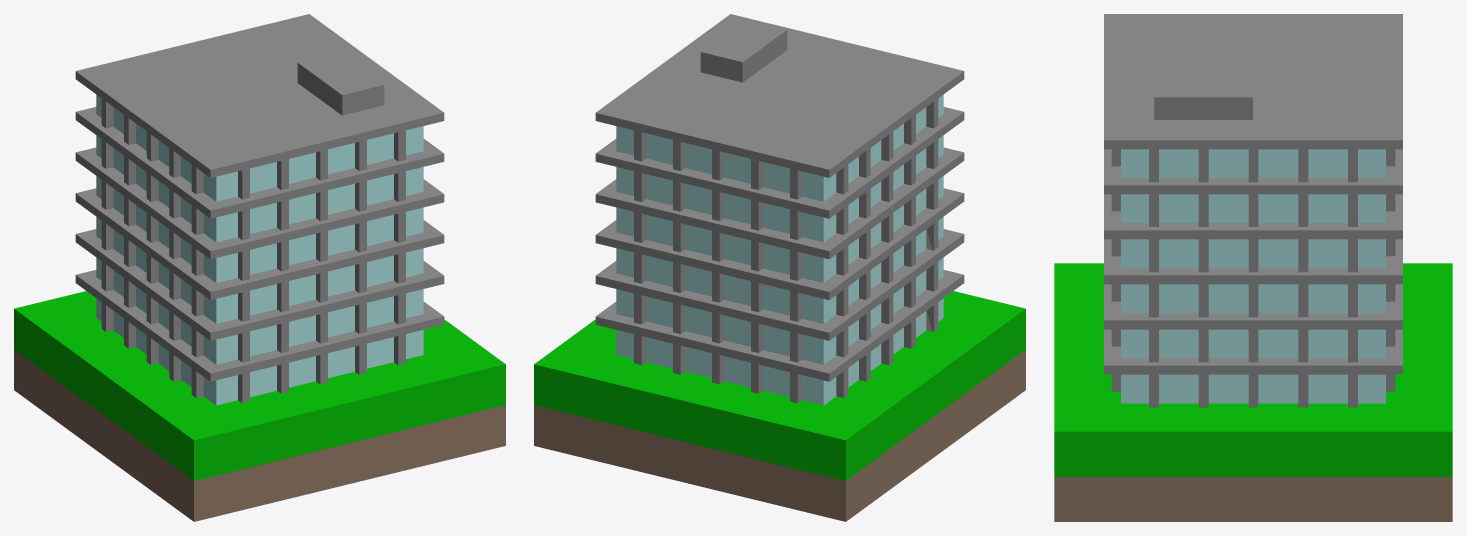
Rendered from Predio.fbx.
3 renders of one model, left to right at view 1: azimuth 30°, elevation 25°; view 2: azimuth 150°, elevation 25°; view 3: azimuth 270°, elevation 25°, orthographic. The views are drawn at different scales.
Visible parts, largest first — view 1: Predio3; view 2: Predio3; view 3: Predio3.
Part boxes in pixels (x1,y1,x2,y2): Predio3: [14, 14, 505, 521]; Predio3: [534, 14, 1025, 521]; Predio3: [1054, 14, 1452, 521].
Bounding box in the file's own units: 3.12 × 3.32 × 3.12.
